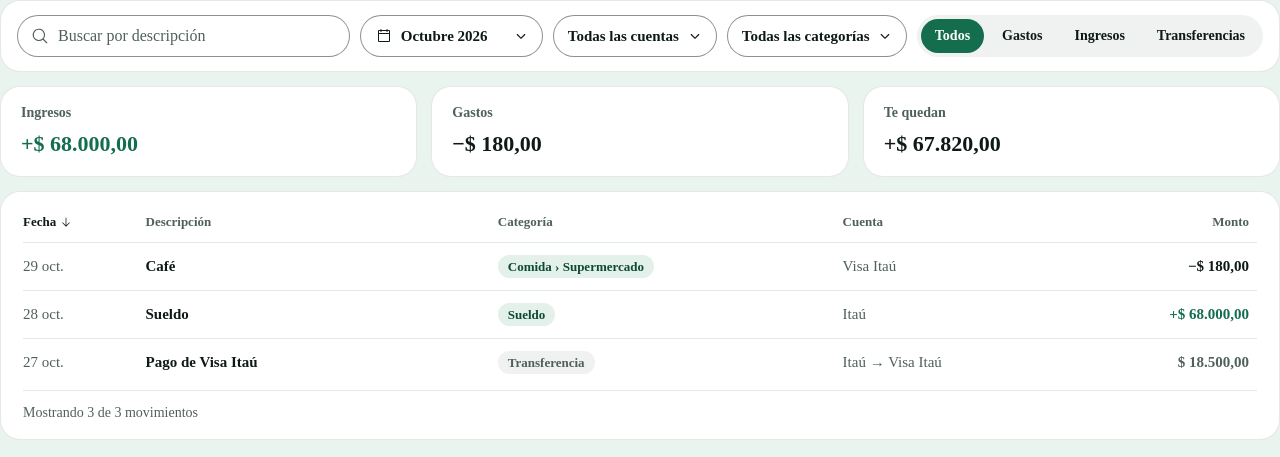
Scenario: the filters › filters by type from the chips, in the URL and in the request
Expected: the table is shown, [23, 202, 1257, 386]
Click the button "Gastos": (1022, 36) [988, 19, 1057, 53]
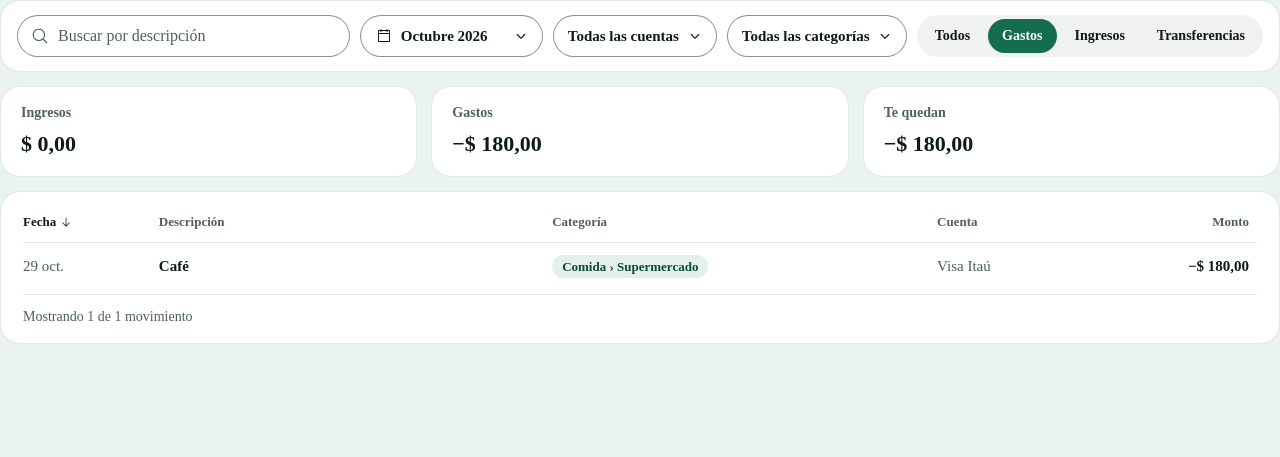
Expected: the text "Sueldo" is gone
